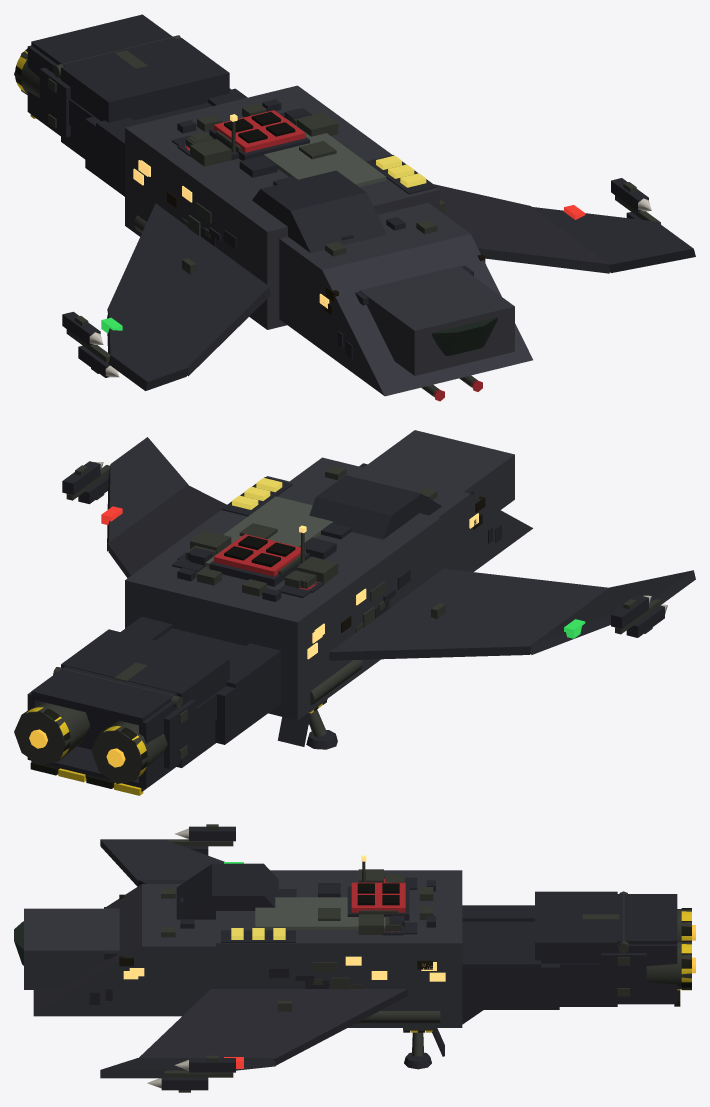
The model's file is enforcer-l.glb.
3 renders of one model, top to bottom at view 1: azimuth 30°, elevation 25°; view 2: azimuth 150°, elevation 25°; view 3: azimuth 270°, elevation 25°, orthographic. The views are drawn at different scales.
Parts seen in each view (by area): view 1: hullForebody, hullMain, wingInnerLeft, hullNose, engineBayBlock, wingInnerRight, canopyFairing, wingOuterRight, engShroudT, wingOuterLeft, accentStripe, aftPlug (+9 smaller); view 2: hullMain, wingInnerLeft, engineBayBlock, hullForebody, hullNose, engineHousing (×2), canopyFairing, engShroudT, wingInnerRight, wingOuterRight, wingOuterLeft, aftPlug (+14 smaller); view 3: hullMain, hullForebody, wingInnerRight, engineBayBlock, hullNose, canopyFairing, aftPlug, wingOuterLeft, tailBoom1, engShroudT, accentStripe, missileBody (×3) (+12 smaller).
Part boxes in pixels (x1,y1,x2,y2): hullForebody: (279,202,532,396); hullMain: (125,85,439,329); wingInnerLeft: (107,203,270,376); hullNose: (359,266,514,375); engineBayBlock: (61,38,229,159); wingInnerRight: (434,184,609,273); canopyFairing: (252,170,386,253); wingOuterRight: (531,206,695,272); engShroudT: (31,14,175,66); wingOuterLeft: (107,310,188,390); accentStripe: (263,118,386,186); aftPlug: (85,88,230,196); hullMain: (125,476,439,720); wingInnerLeft: (329,568,609,660); engineBayBlock: (61,629,229,767); hullForebody: (290,457,532,571); hullNose: (364,430,514,509); engineHousing (×2): (14,702,167,783); canopyFairing: (309,475,441,539); engShroudT: (31,666,176,725); wingInnerRight: (107,485,226,578); wingOuterRight: (107,437,188,551); wingOuterLeft: (530,570,695,654); aftPlug: (156,628,280,744); hullMain: (216,870,462,1027); hullForebody: (33,884,215,1016); wingInnerRight: (139,989,407,1065); engineBayBlock: (535,891,617,1006); hullNose: (24,908,119,989); canopyFairing: (176,863,278,919); aftPlug: (462,921,559,1009); wingOuterLeft: (100,839,224,886); tailBoom1: (462,951,541,992); engShroudT: (617,894,677,944); accentStripe: (255,897,403,929); missileBody (×3): (161,826,235,1090).
Size of the model in its own units: 4.53 by 1.4 by 5.54.
